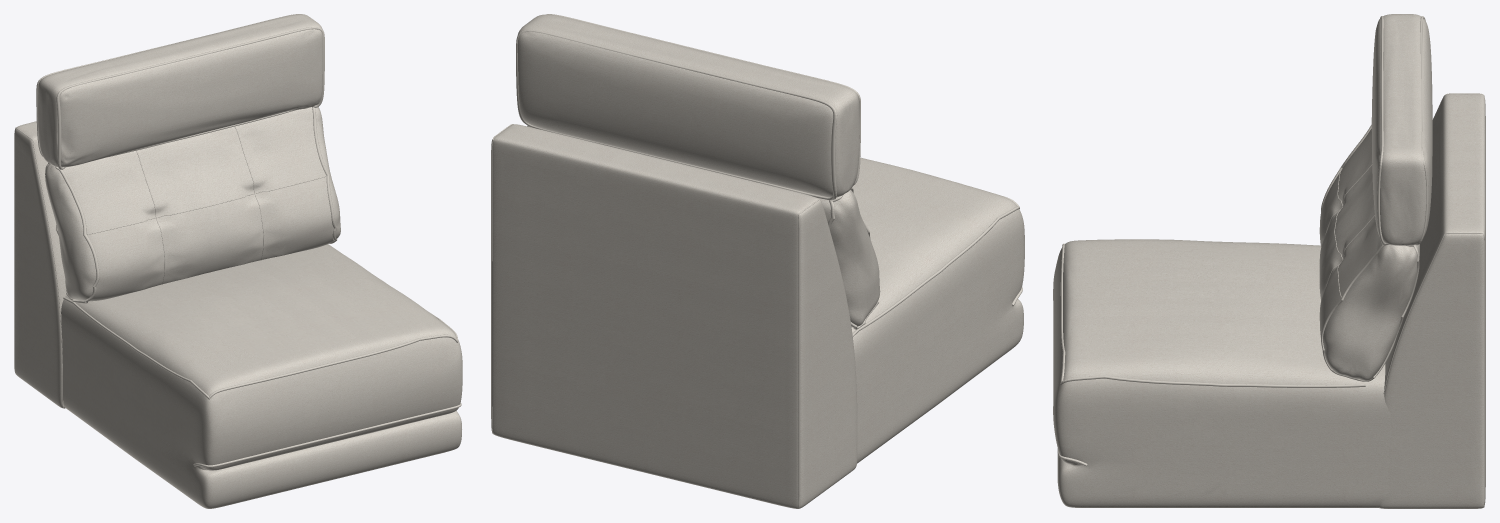
The model's file is seat.glb.
The picture shows the model from 3 angles, left to right: view 1: azimuth 30°, elevation 25°; view 2: azimuth 150°, elevation 25°; view 3: azimuth 270°, elevation 25°; orthographic projection. The views are drawn at different scales.
Parts seen in each view (by area): view 1: D=~ 0,00 m; view 2: D=~ 0,00 m; view 3: D=~ 0,00 m.
Part boxes in pixels (x1,y1,x2,y2): D=~ 0,00 m: (14,14,462,508); D=~ 0,00 m: (491,14,1024,508); D=~ 0,00 m: (1053,14,1485,508).
Bounding box in the file's own units: 0.831 × 0.9408 × 1.03.
Materials: 1 (1 with a texture image).
